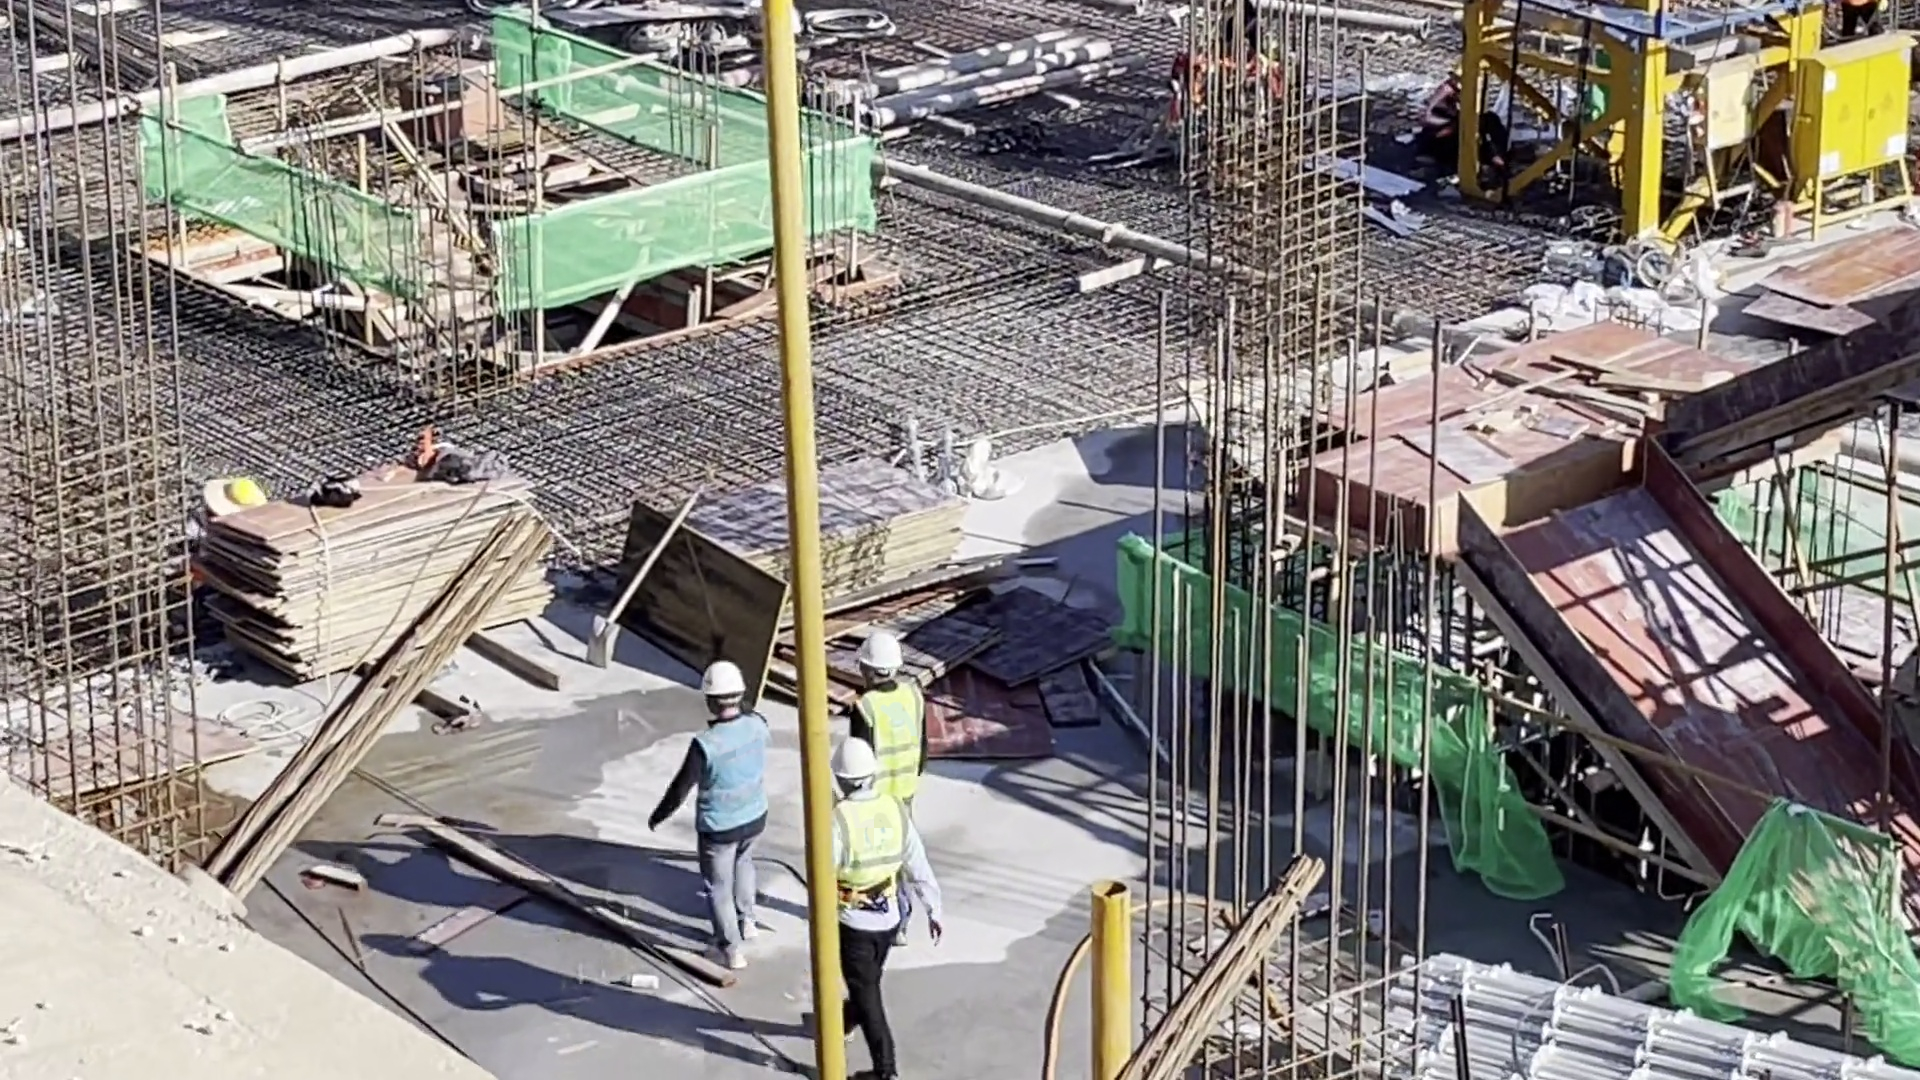board: (211, 440, 556, 683), (665, 456, 963, 623), (1375, 384, 1640, 558)
ebox: (1771, 25, 1920, 238)
helmet: (854, 632, 903, 670), (833, 738, 876, 779), (699, 661, 747, 695)
person: (830, 737, 945, 1078), (649, 660, 771, 970), (849, 631, 926, 819)
scaffold: (1461, 952, 1920, 1080)
vest: (830, 794, 909, 915), (693, 709, 768, 834), (857, 681, 923, 796)
